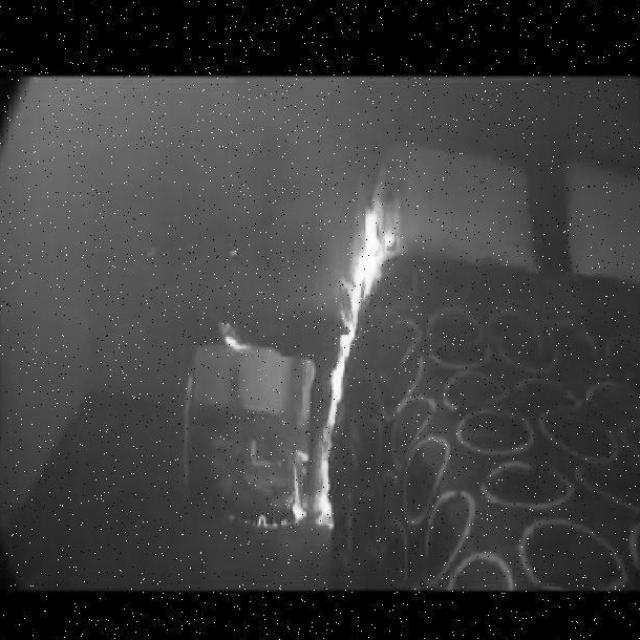smoke: (308, 187, 398, 532)
